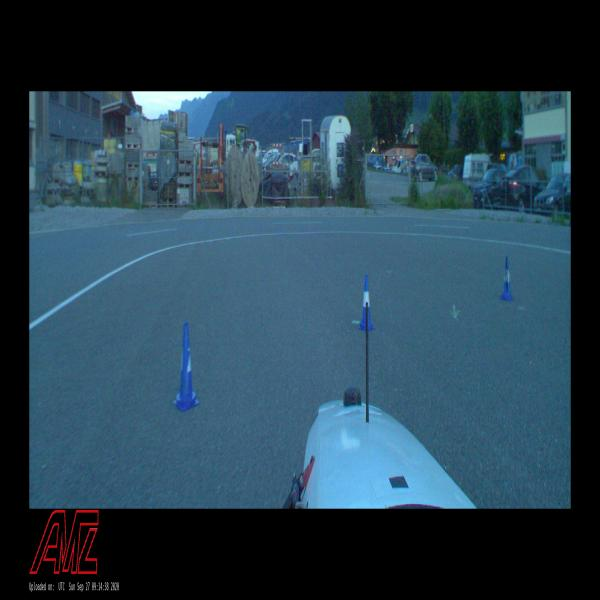blue_cone: (173, 323, 198, 407), (358, 275, 373, 329), (501, 257, 511, 300)
